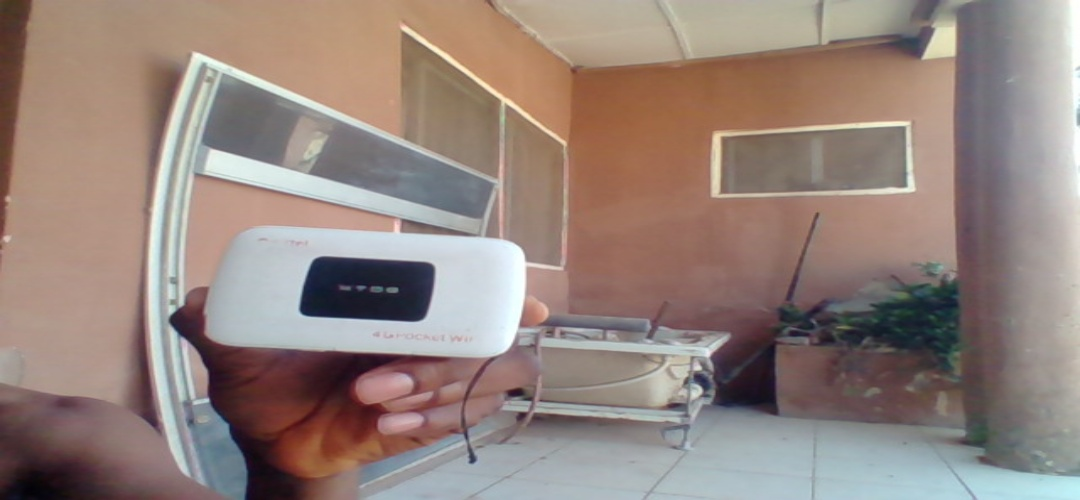mifi: (202, 219, 530, 367)
